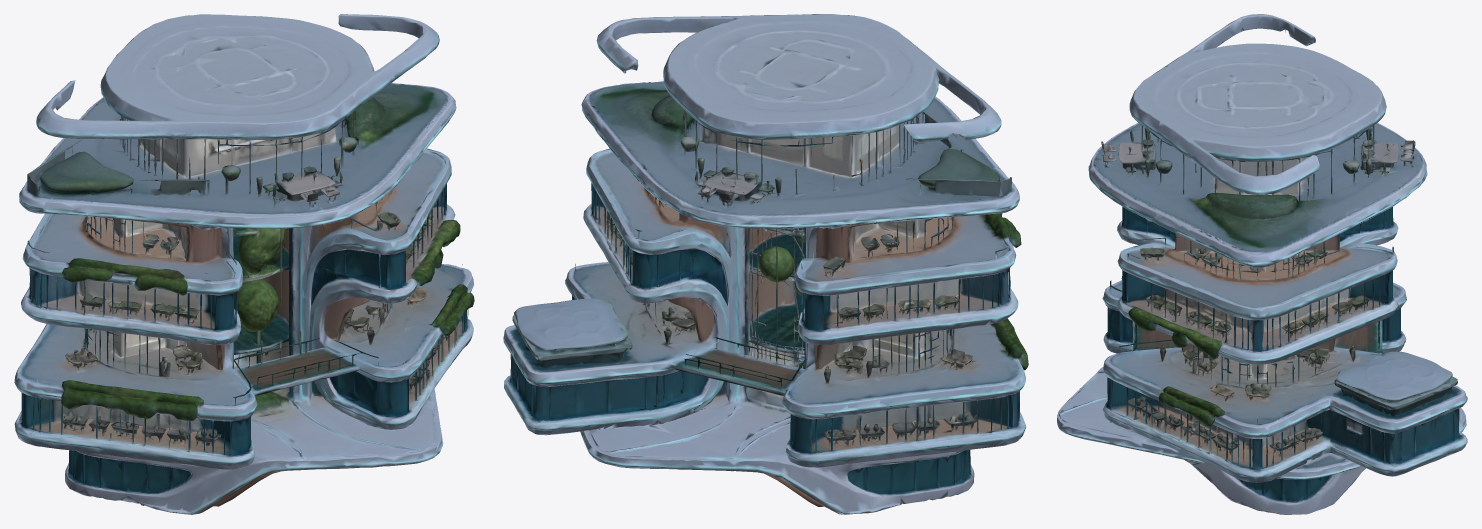
Rendered from projects-building.glb.
3 views of the same model, side by side, from view 1: azimuth 30°, elevation 25°; view 2: azimuth 150°, elevation 25°; view 3: azimuth 270°, elevation 25° (orthographic). The views are drawn at different scales.
Visible parts, largest first — view 1: ProjectsShell; view 2: ProjectsShell; view 3: ProjectsShell.
Boxes of the visible parts, <box> form: ProjectsShell: <box>14,14,474,514</box>; ProjectsShell: <box>503,14,1028,514</box>; ProjectsShell: <box>1057,14,1467,514</box>.
Size of the model in its own units: 0.9784 by 0.7863 by 0.8518.
1 material, 1 textured.
